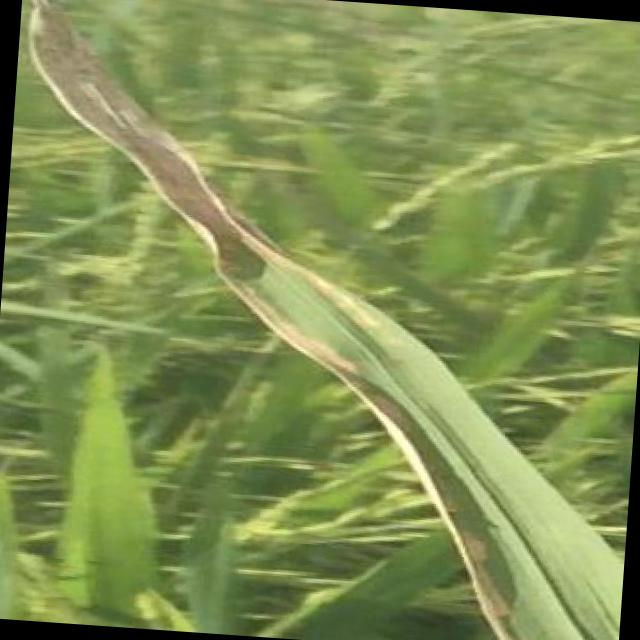Rice_Bacterial_Blight: (207, 206, 420, 426)
